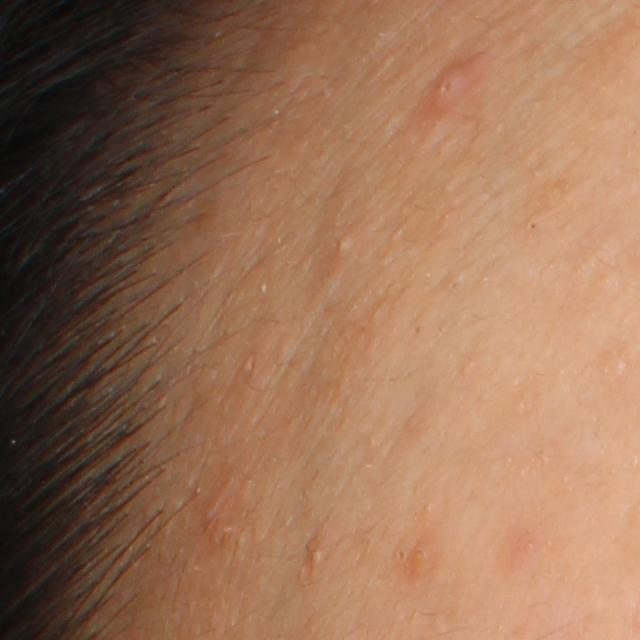comedo: (304, 542, 331, 567), (525, 210, 546, 234)
papule: (420, 59, 471, 118), (405, 530, 448, 588)
